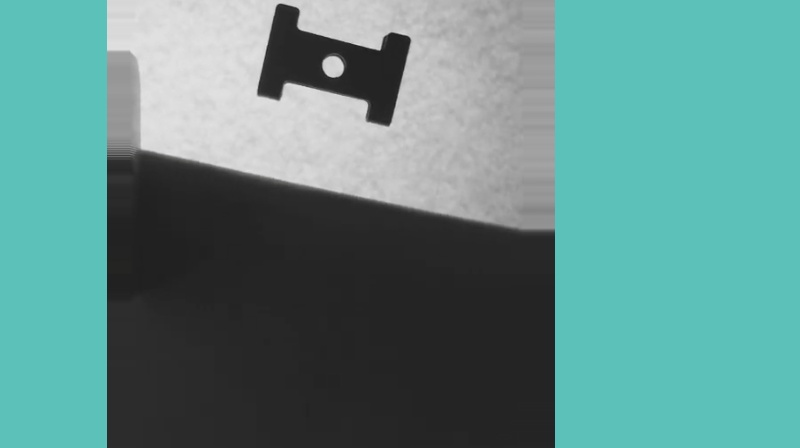O002: (254, 0, 414, 129)
